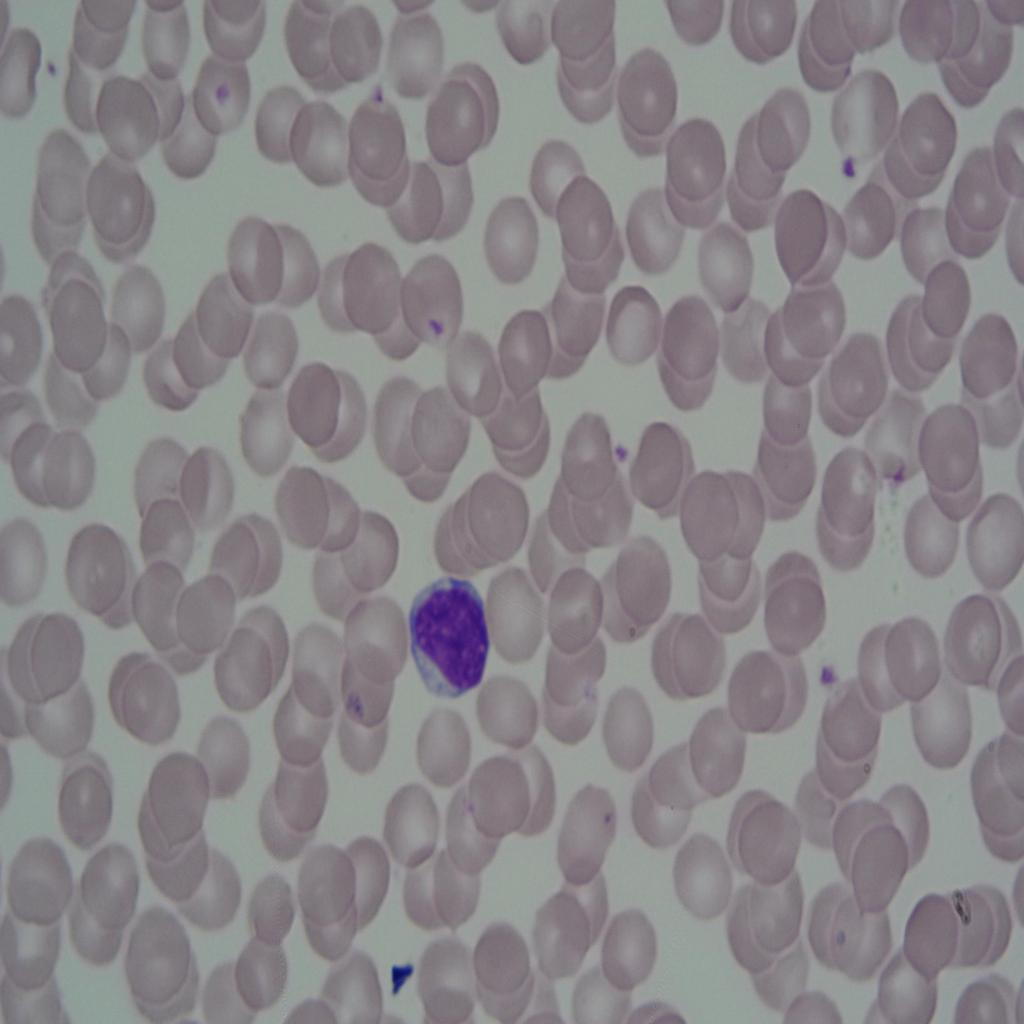Myeoblast: (393, 565, 491, 700)
Platelet: (376, 935, 415, 997), (204, 77, 240, 118), (603, 432, 635, 476), (814, 655, 843, 695), (837, 145, 863, 184), (369, 78, 394, 112), (428, 308, 446, 341)
